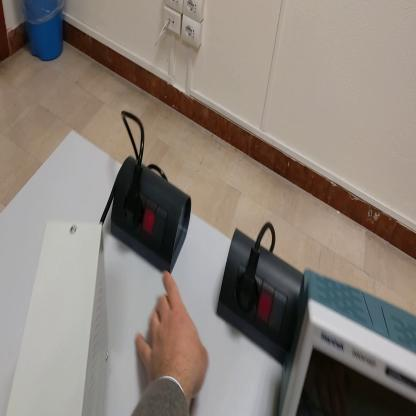hand: (138, 270, 208, 399)
oscilloscope: (280, 268, 416, 415)
power supply: (7, 220, 111, 415)
socket: (217, 225, 307, 377), (109, 154, 193, 277)
